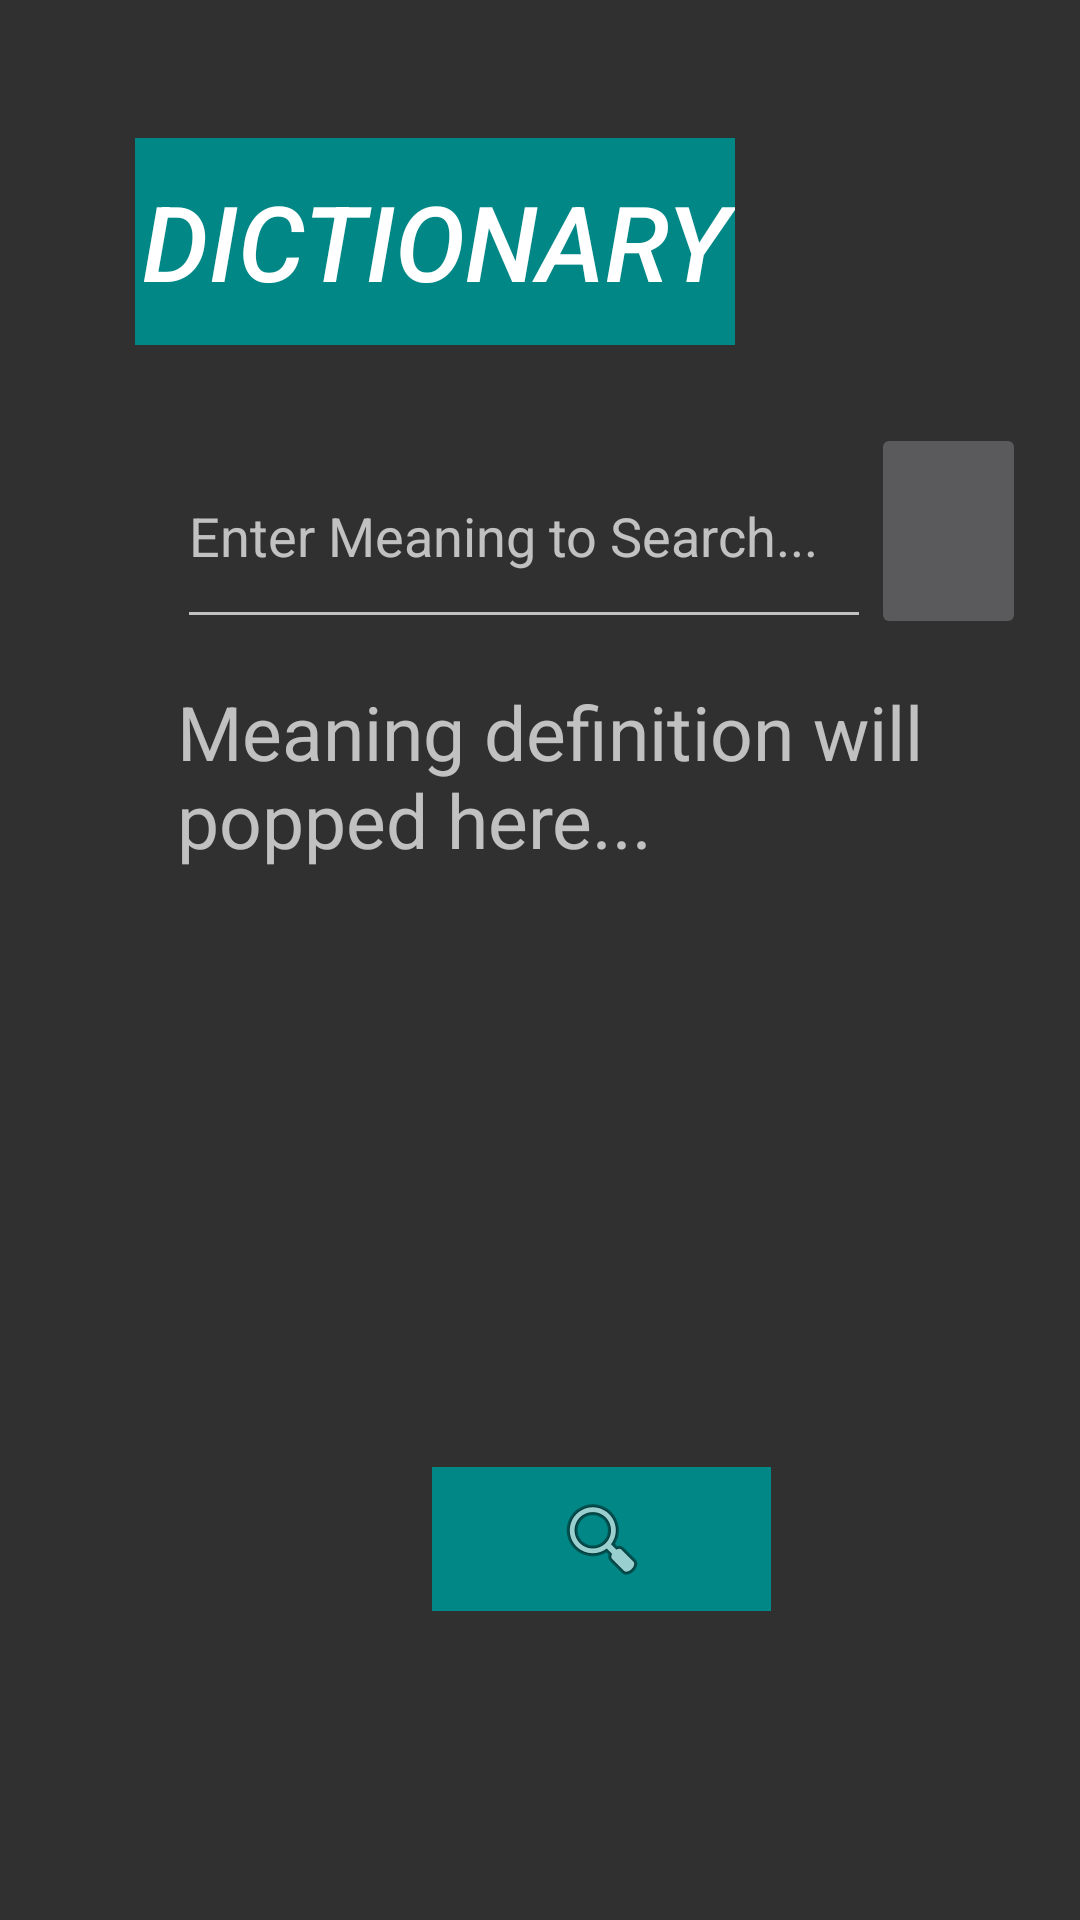

Named icons in this screenshot (1080 × 1920) and their bounding boxes, (x1, y1, x2, y2):
search: (432, 1467, 771, 1611)
